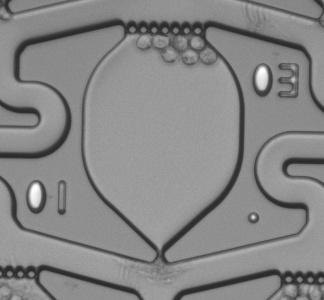AptNum: (248, 59, 302, 101)
Marker: (244, 211, 263, 225)
StNum: (25, 175, 72, 219)
